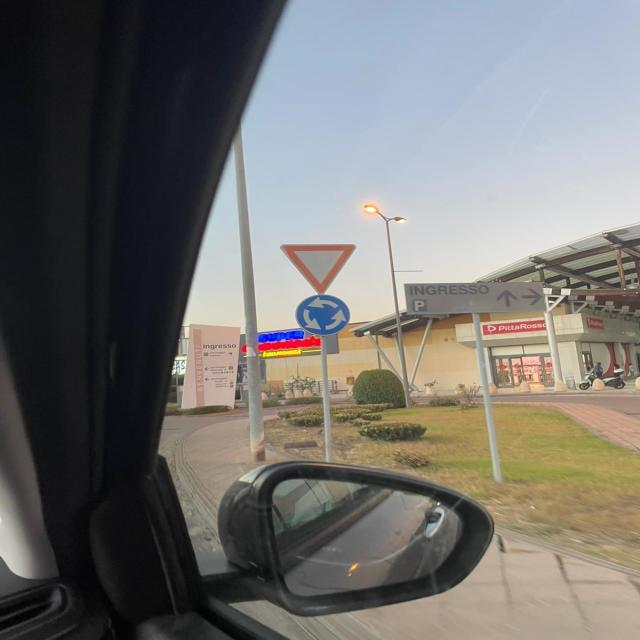prio_give_way: (280, 242, 357, 295)
